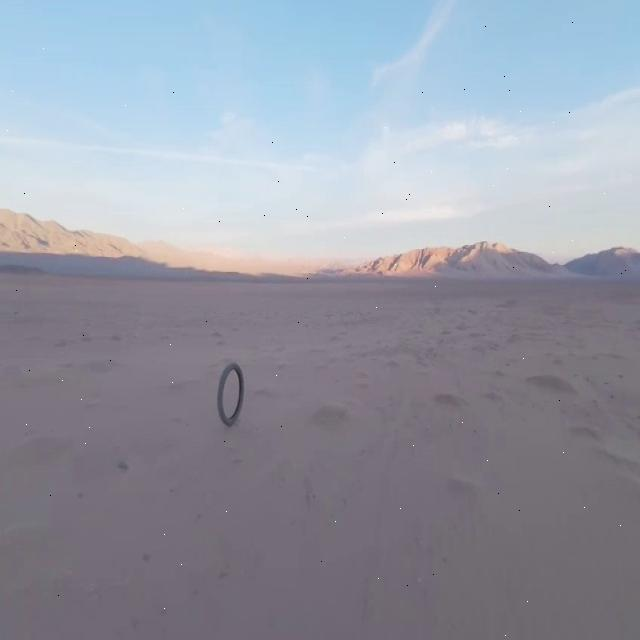Tire: (218, 363, 244, 426)
